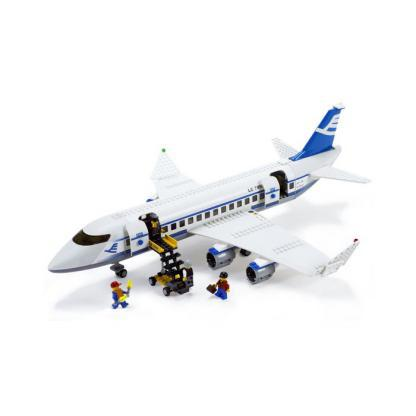CIV_Plane: (42, 101, 375, 314)
